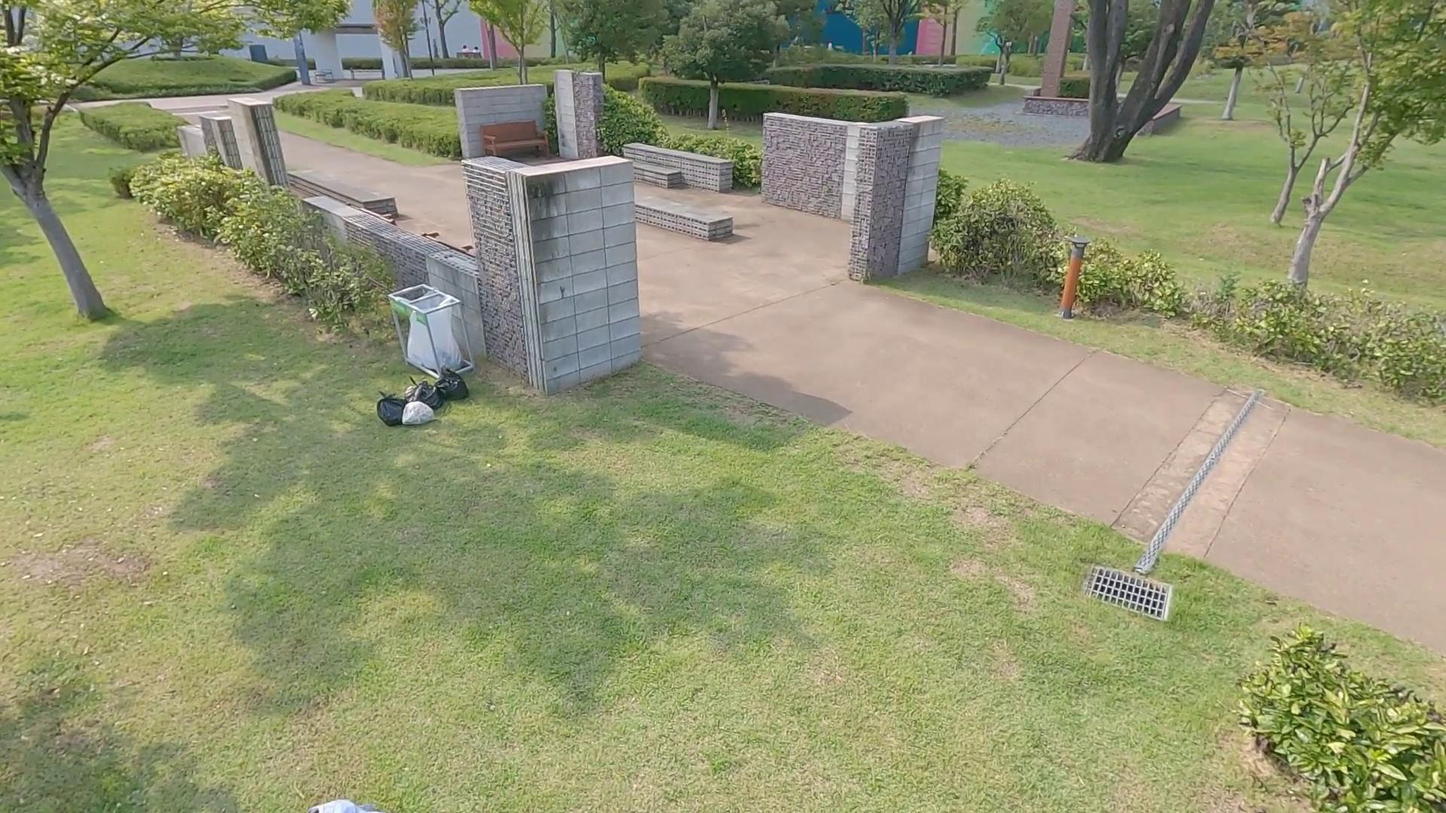trash: (434, 363, 470, 403), (376, 389, 414, 426), (404, 376, 442, 413), (401, 398, 435, 426)
